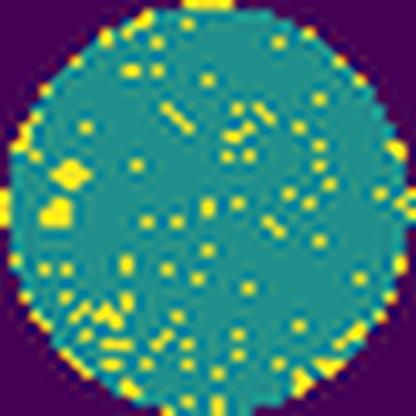Loc: (50, 156, 96, 189), (39, 193, 74, 230)
